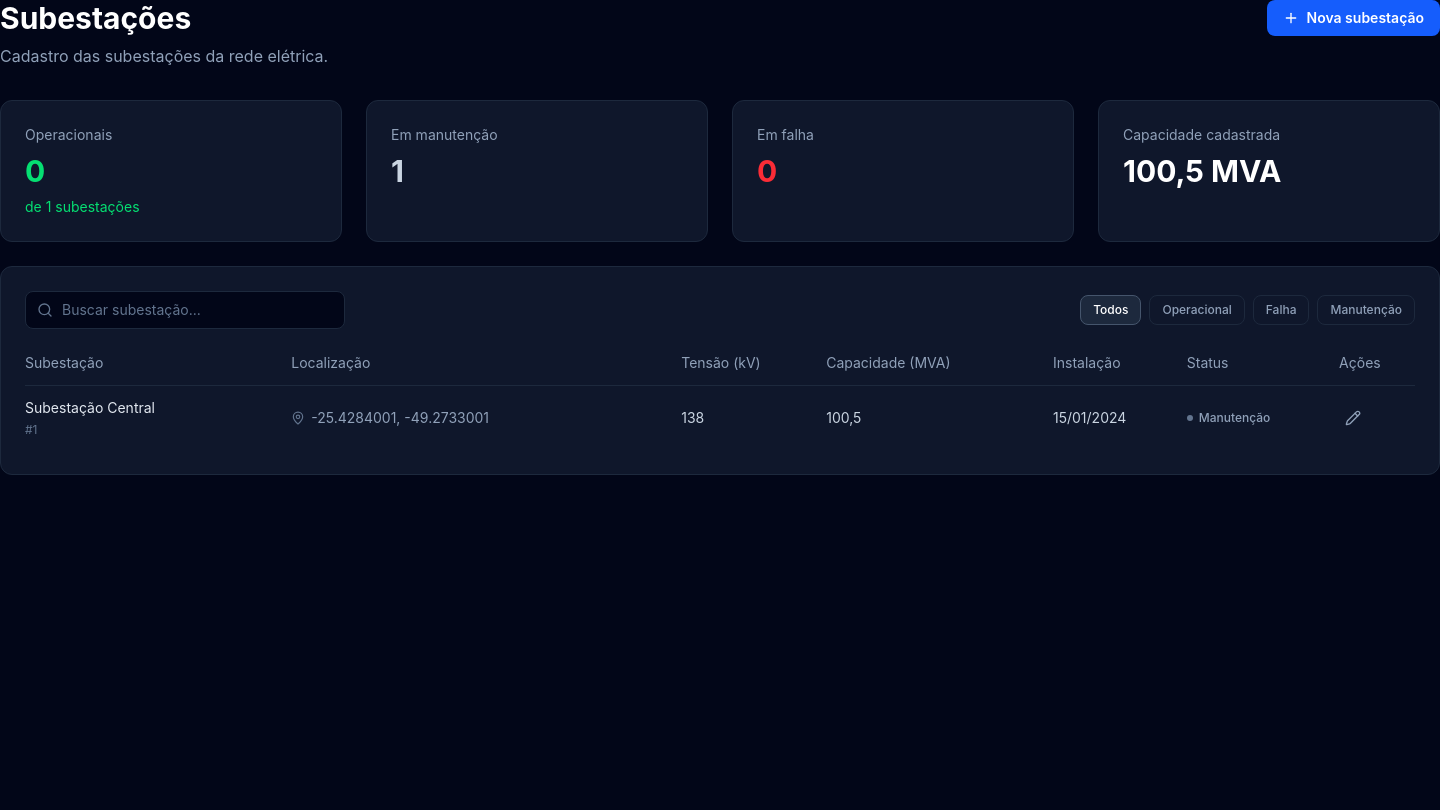
it: edicao › preenche o formulario, preserva o status e atualiza a linha
Step 1. Click the button named "Editar Subestação Central" → (1353, 418), box [1339,404,1367,432]
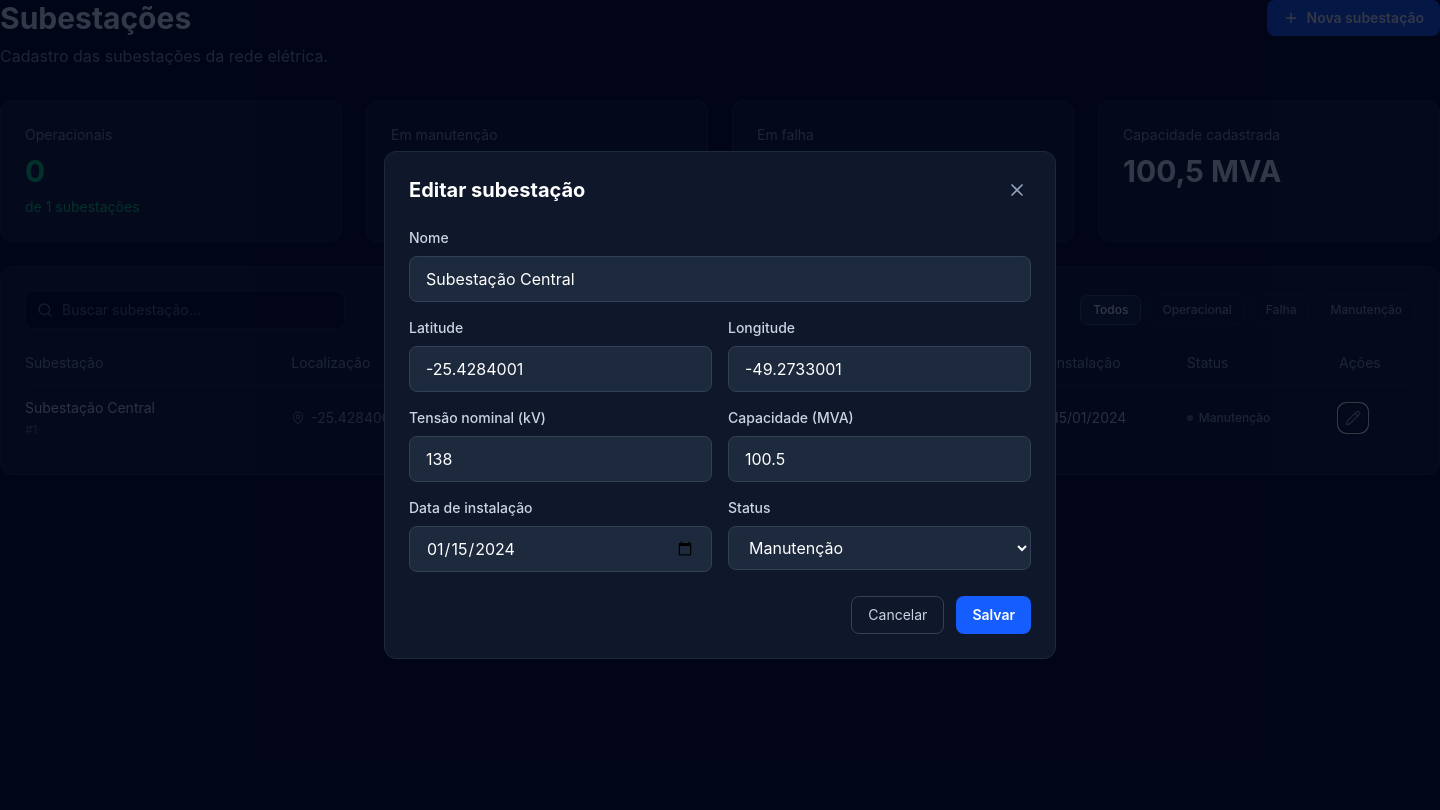
Check: the field labelled "Latitude" holds "-25.4284001", box [409,346,712,392]
Check: the dropdown labelled "Status" shows "Manutenção", box [728,526,1031,570]
Step 2. Type "Subestação Renomeada" into the field labelled "Nome" → (720, 279), box [409,256,1031,302]
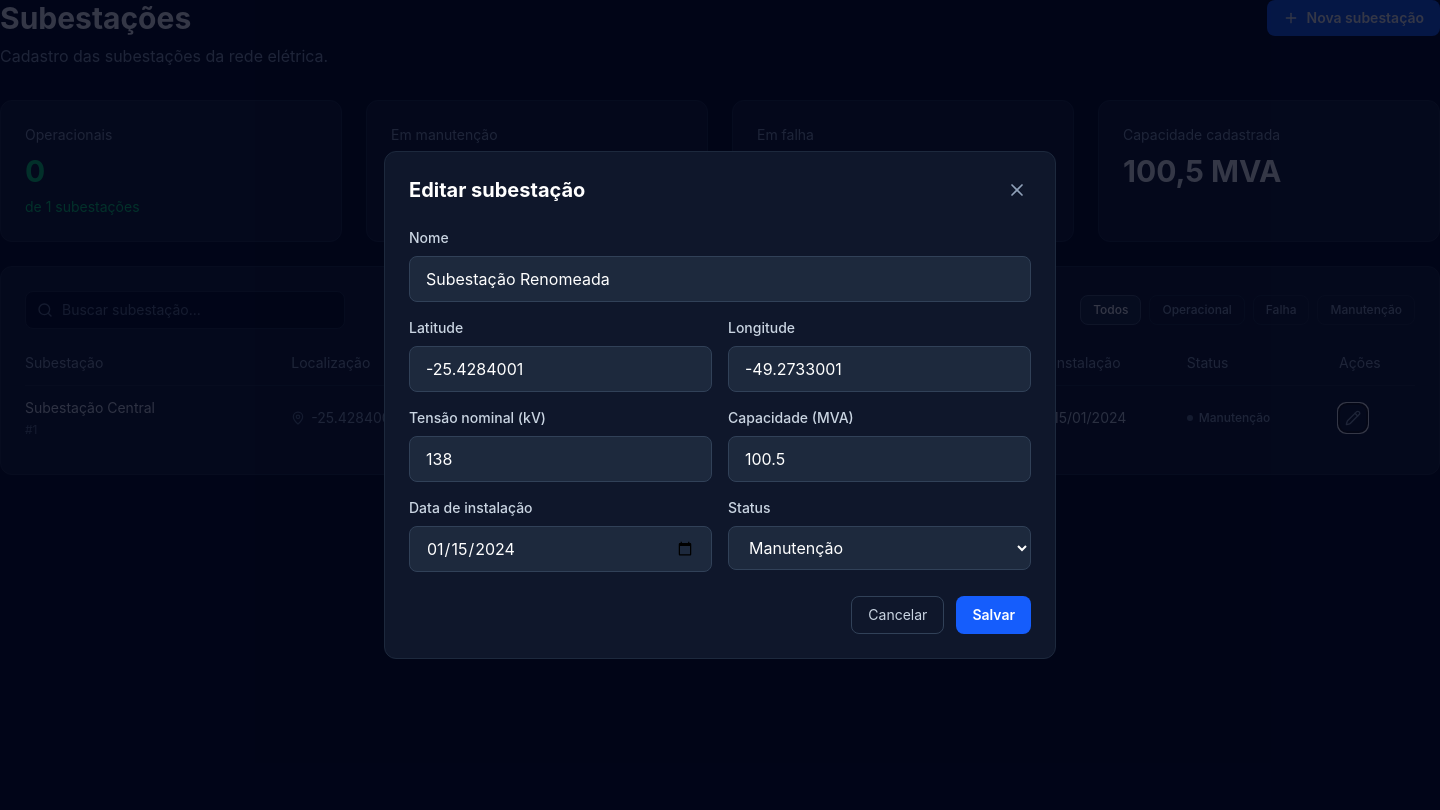
Step 3. Click the button "Salvar" → (994, 615), box [956,596,1031,634]
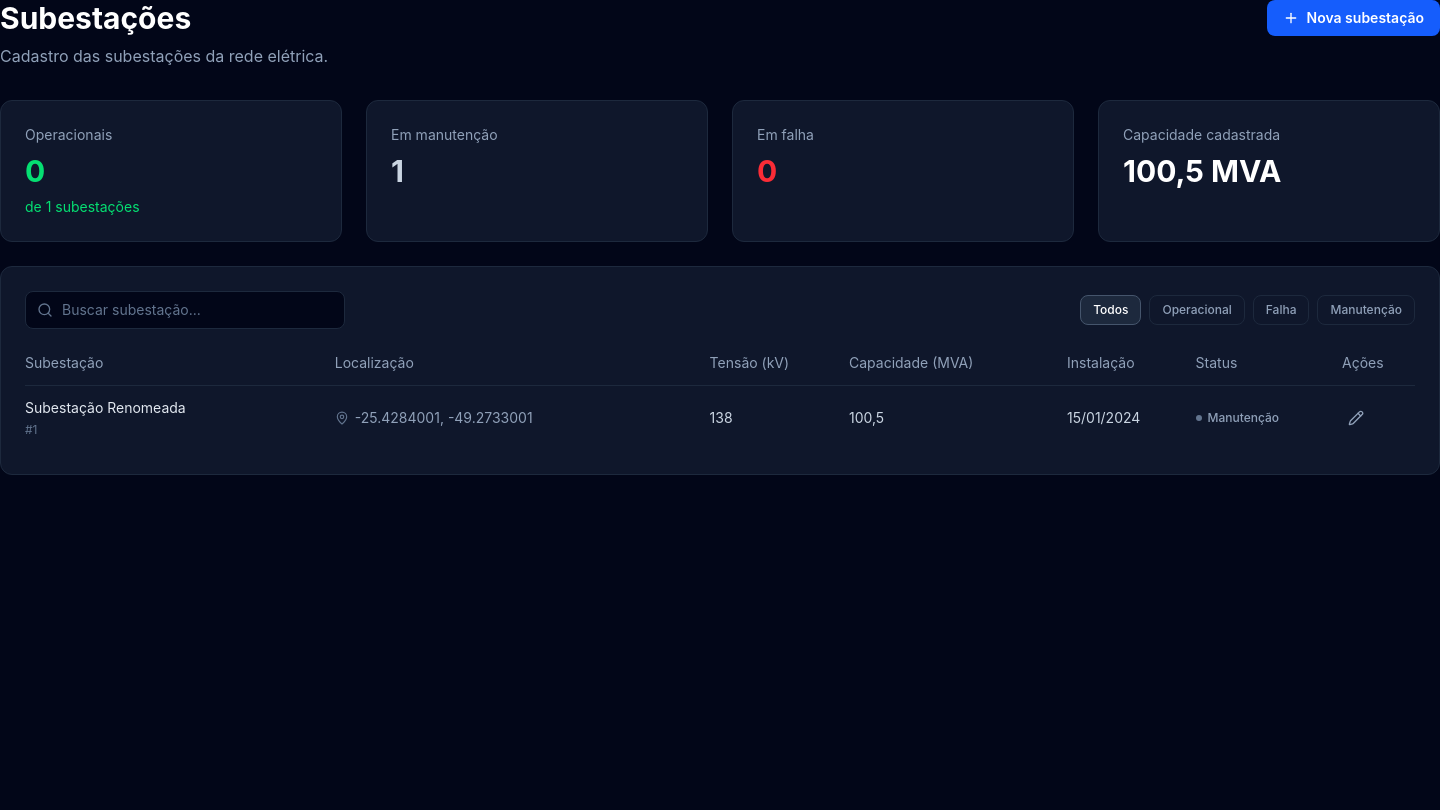
Check: the text "Subestação Renomeada" is shown, box [25,399,186,416]
Check: the text "Subestação Central" is gone
